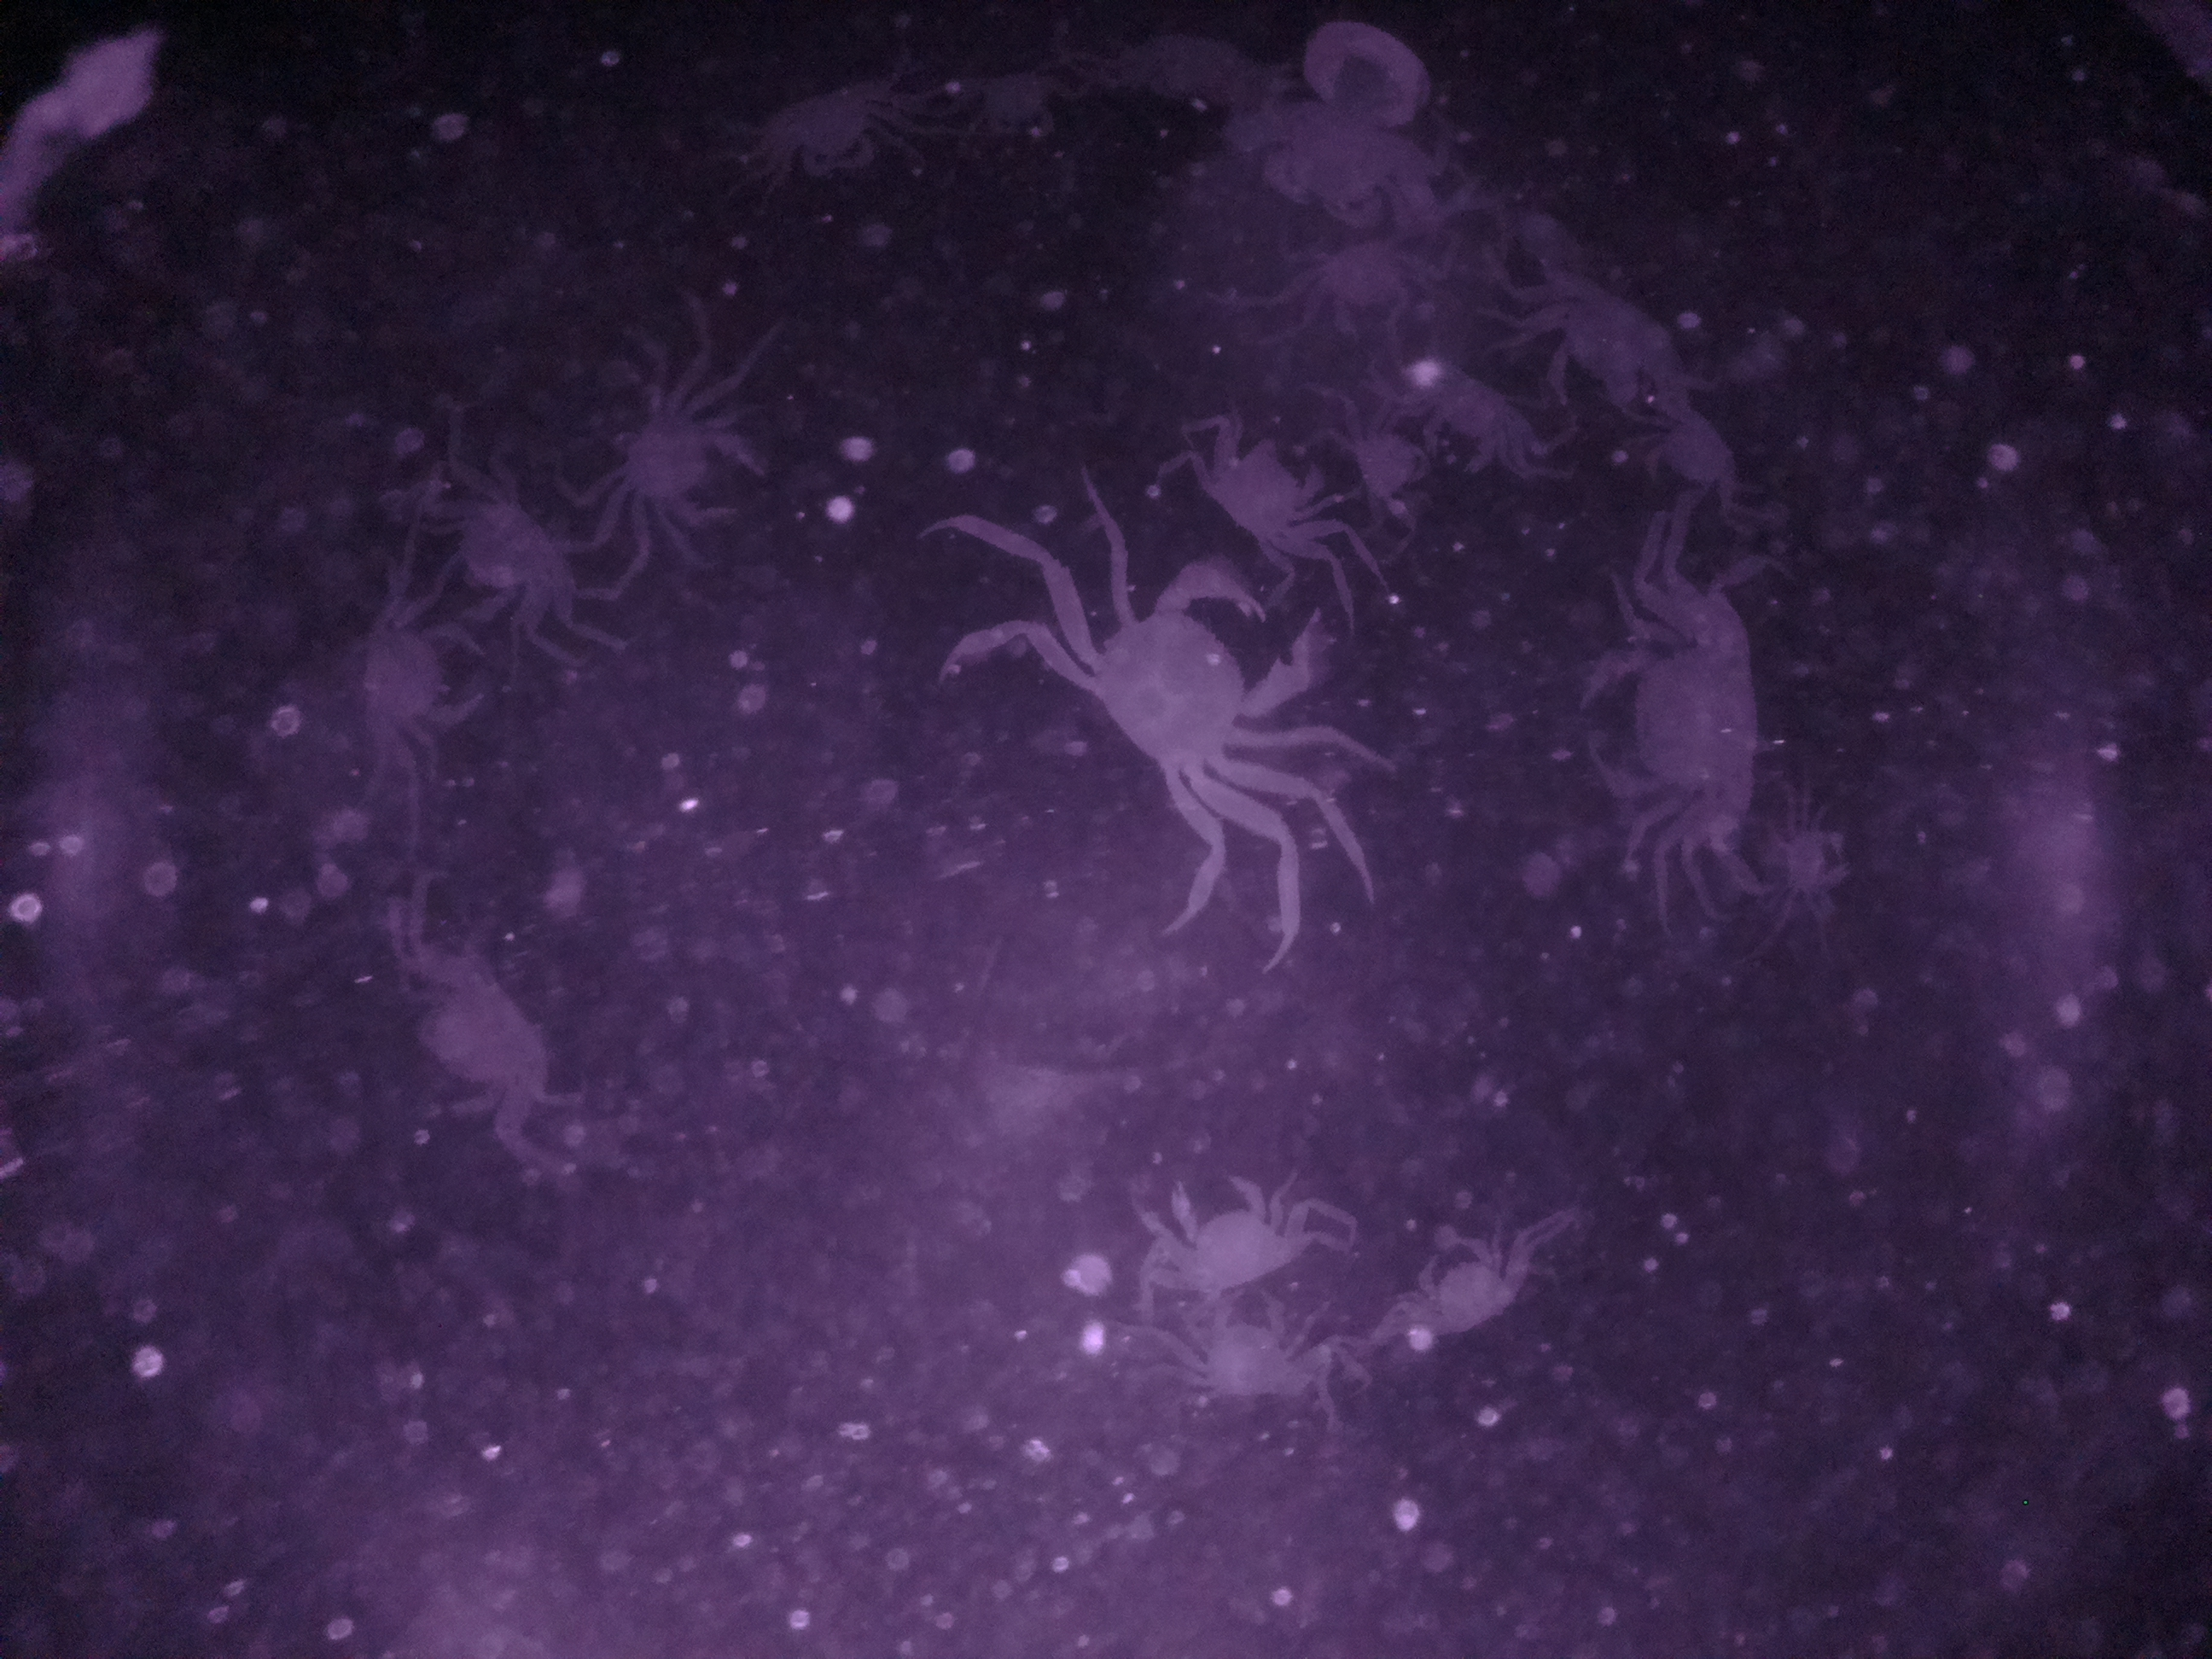Crab: (1024, 558, 1339, 829), (1566, 573, 1784, 870), (585, 362, 796, 559), (1115, 1157, 1336, 1305), (1378, 1187, 1561, 1354), (347, 584, 498, 781), (1148, 1281, 1348, 1415), (1184, 415, 1341, 572), (1397, 349, 1548, 497), (751, 70, 923, 192)
